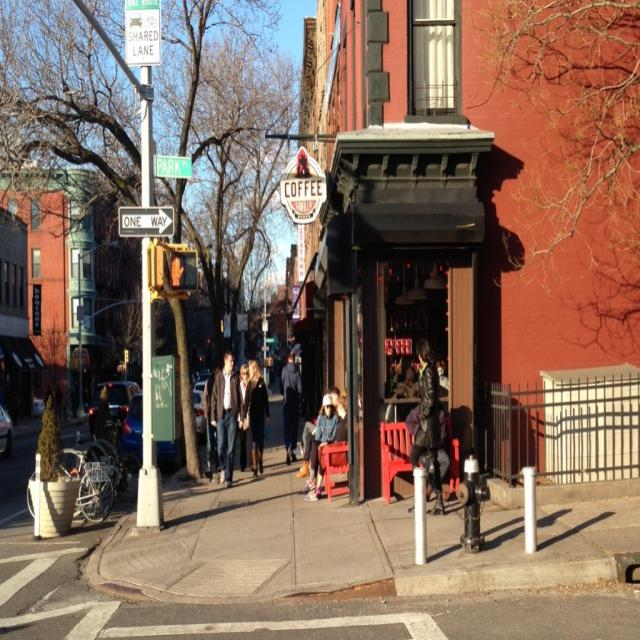body: (406, 337, 447, 517), (209, 348, 245, 490), (405, 398, 451, 504), (294, 386, 344, 480), (301, 392, 341, 503), (215, 446, 313, 490), (237, 358, 272, 480), (305, 392, 339, 500), (450, 402, 482, 508), (384, 348, 449, 396), (279, 350, 304, 468), (299, 392, 336, 463), (43, 374, 92, 422), (202, 362, 222, 479), (235, 362, 254, 472)
